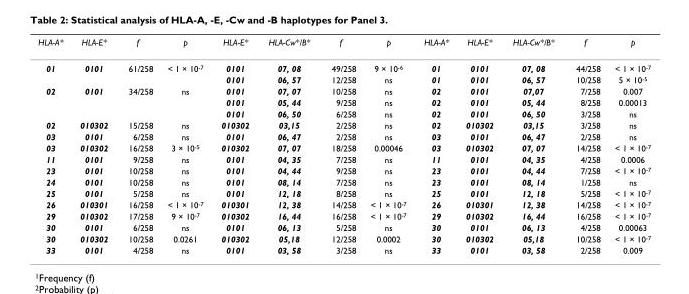table: (37, 36, 650, 254)
table column: (258, 36, 320, 254), (502, 36, 564, 254), (159, 36, 211, 254), (362, 36, 414, 254), (70, 36, 117, 254), (211, 36, 258, 254), (456, 36, 502, 254), (606, 36, 650, 254), (117, 36, 159, 254), (320, 36, 362, 254), (414, 36, 456, 254), (564, 36, 606, 254), (37, 36, 70, 254)
table column header: (37, 36, 650, 54)
table row: (37, 54, 650, 73), (37, 36, 650, 54), (37, 73, 650, 85), (37, 107, 650, 119), (37, 141, 650, 153), (37, 175, 650, 187), (37, 198, 650, 210), (37, 232, 650, 244), (37, 85, 650, 96), (37, 96, 650, 107), (37, 119, 650, 130), (37, 130, 650, 141), (37, 153, 650, 164), (37, 164, 650, 175), (37, 187, 650, 198), (37, 210, 650, 221), (37, 221, 650, 232), (37, 244, 650, 254)
table spanning cell: (37, 85, 70, 119), (37, 54, 70, 85)
